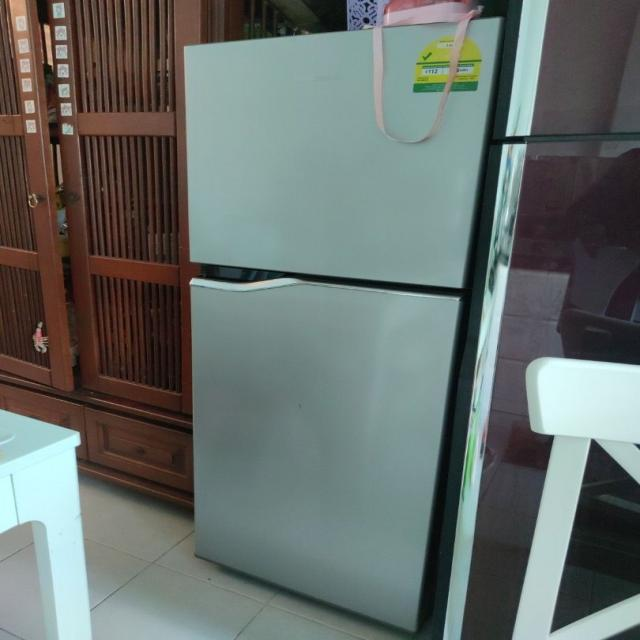refrigerator: (186, 13, 508, 640)
